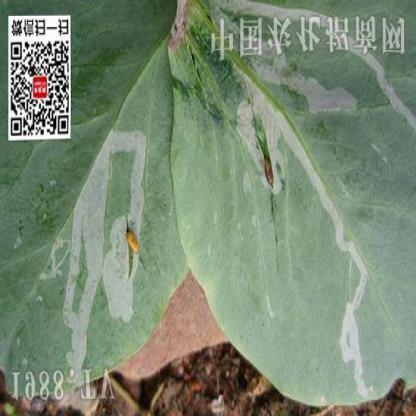whorl-maggot: (259, 151, 281, 190), (122, 224, 145, 261)
